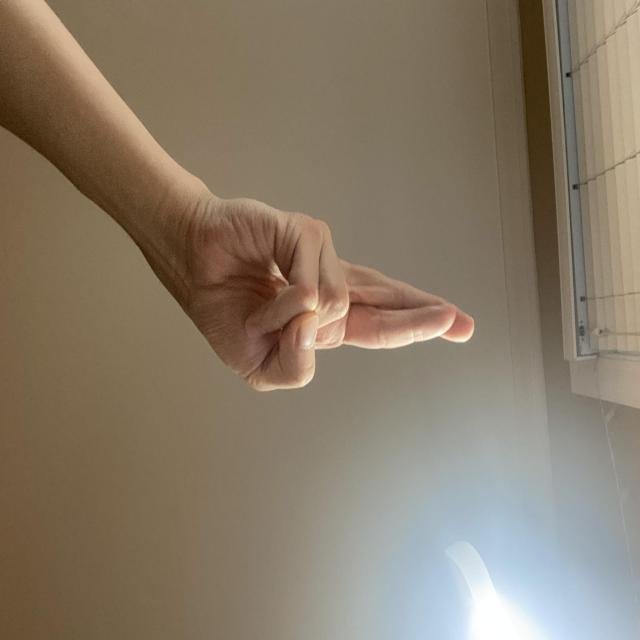R: (304, 213, 462, 625)
